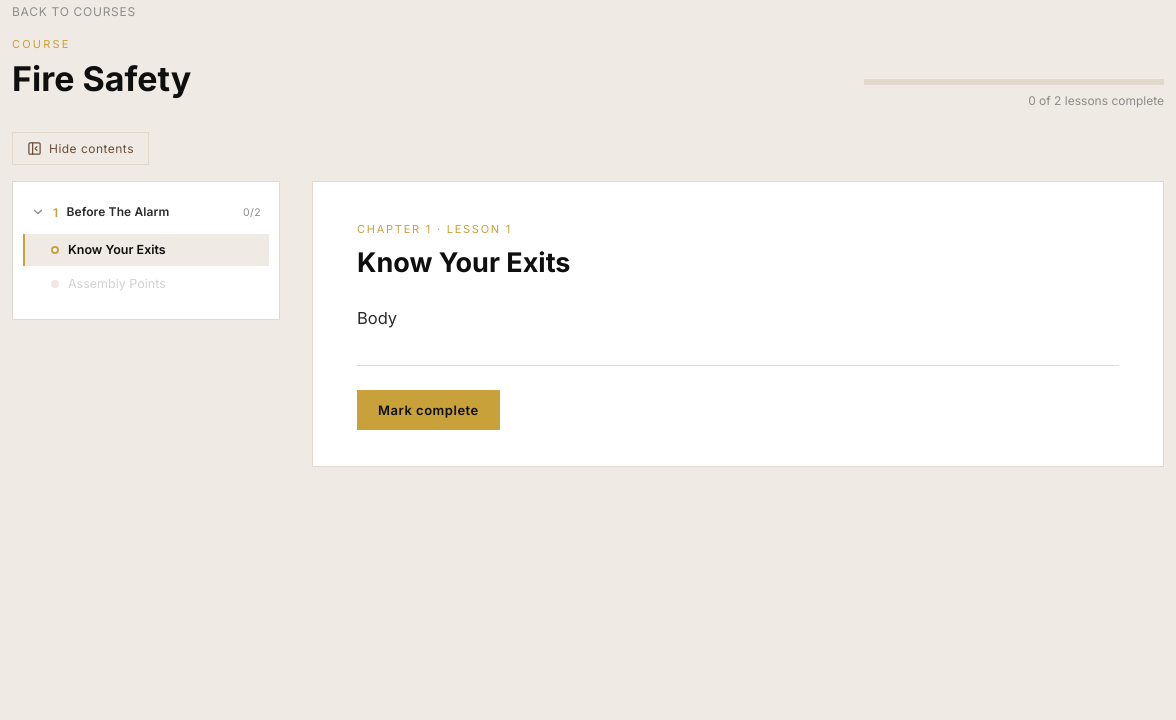
completing a lesson › surfaces a rejection instead of silently doing nothing
expect the heading "Know Your Exits" is shown: met, box [357,246,570,279]
Click the button "Mark complete". click: (428, 410)
box: [357,390,500,430]
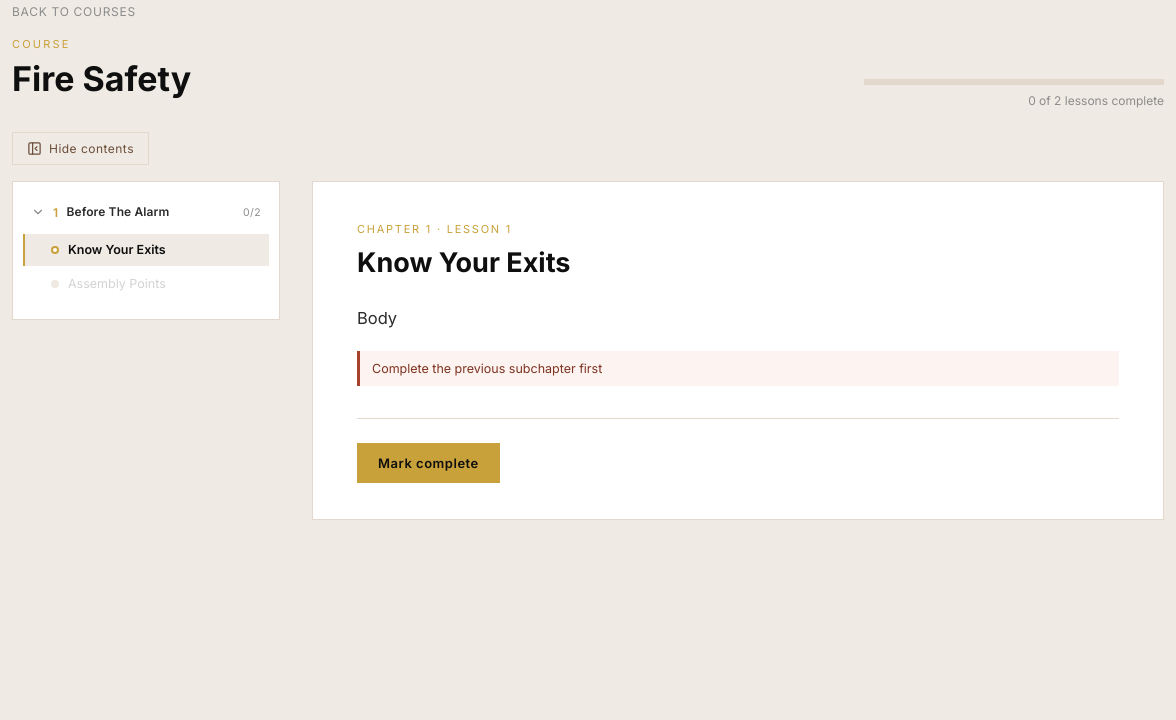
expect the text "Complete the previous subchapter first" is shown: met, box [357,351,1119,386]
